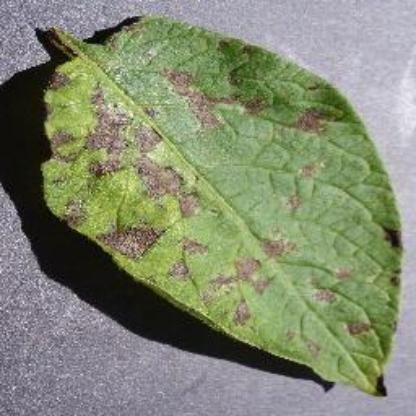Early-Blight: (34, 13, 396, 399)
